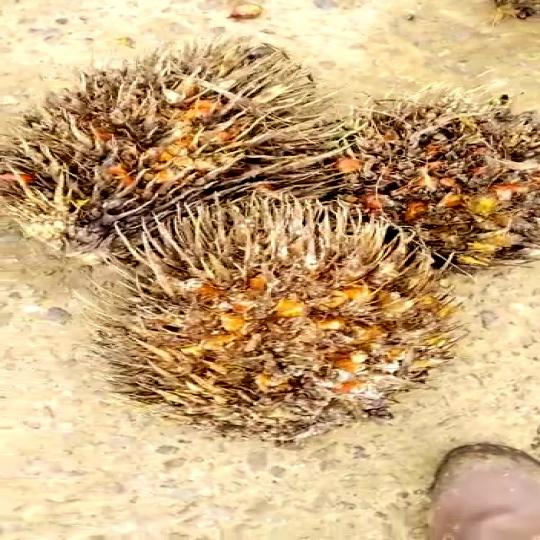terlalu masak: (95, 209, 462, 424), (0, 66, 319, 235), (291, 99, 540, 276)
